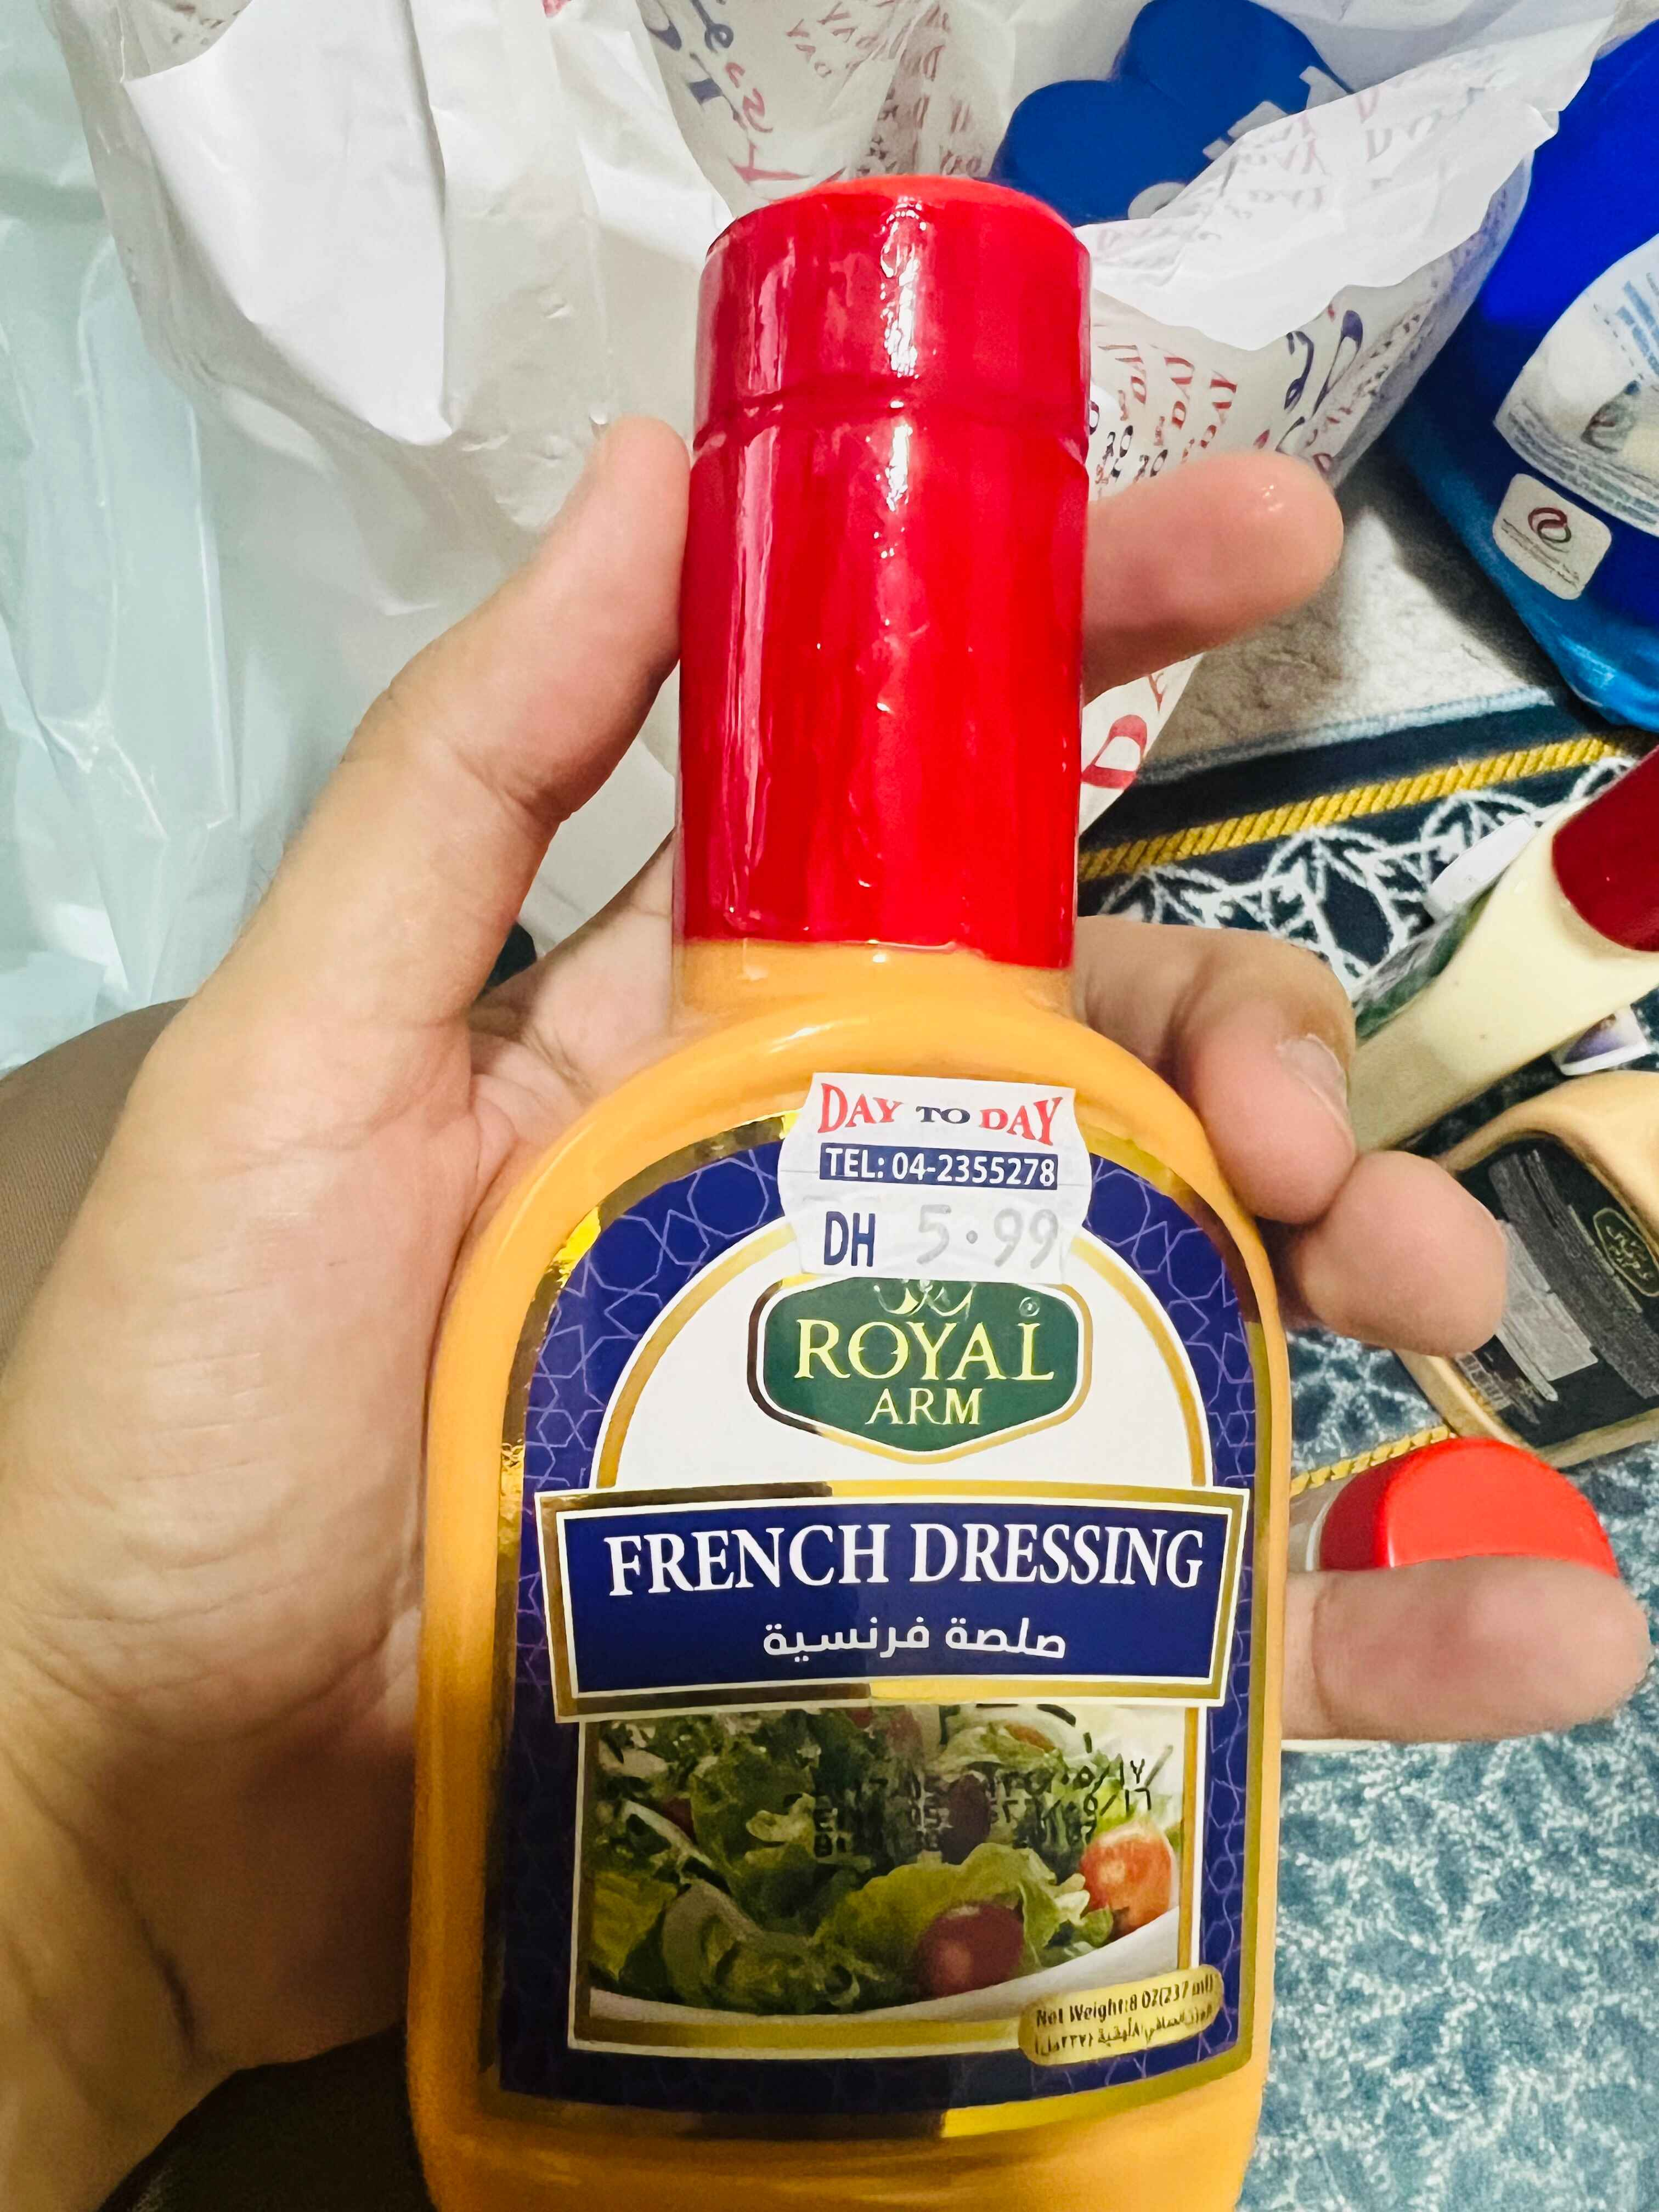PriceTagSmall: (793, 1064, 1094, 1284)
